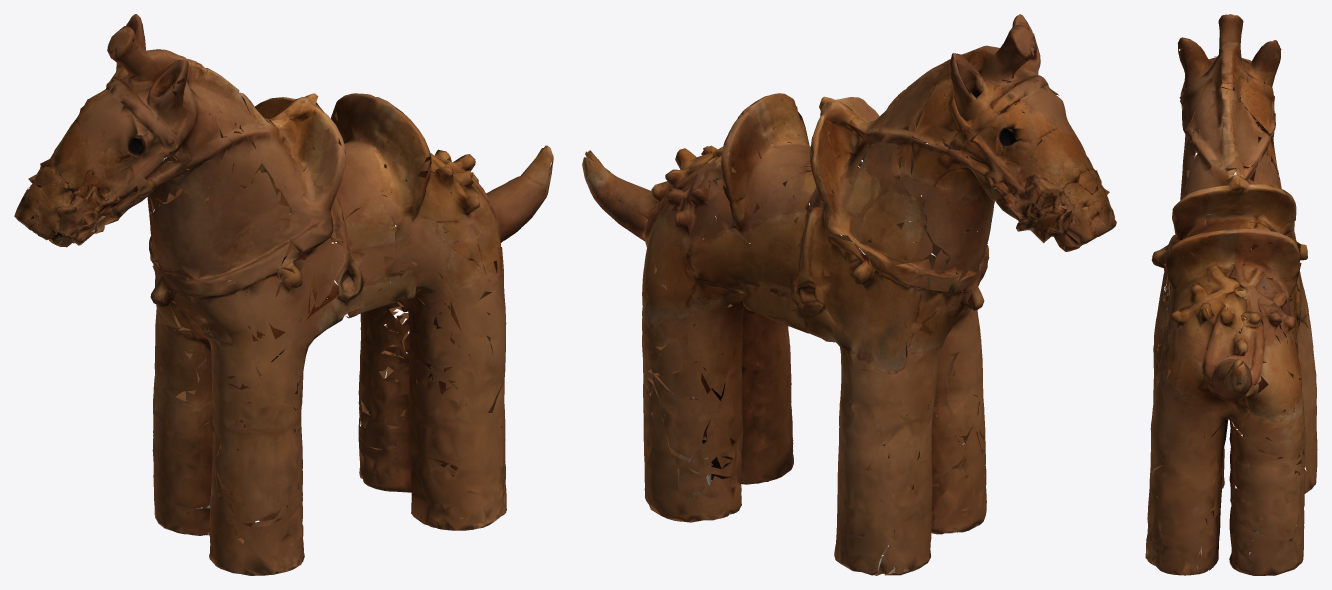
File: sf-haniwa-horse.glb
3 renders of one model, left to right at view 1: azimuth 30°, elevation 25°; view 2: azimuth 150°, elevation 25°; view 3: azimuth 270°, elevation 25°, orthographic. The views are drawn at different scales.
Visible parts, largest first — view 1: Object_6, Object_8, Object_2, Object_3, Object_5, Object_4, Object_7, Object_9, Object_10, Object_11; view 2: Object_3, Object_7, Object_2, Object_9, Object_8, Object_4, Object_5, Object_6, Object_10, Object_11; view 3: Object_2, Object_3, Object_5, Object_6, Object_4, Object_8, Object_7, Object_10, Object_9, Object_11.
Boxes of the visible parts, x1,y1,x2,y2 form: Object_6: (149, 145, 553, 574); Object_8: (34, 14, 288, 575); Object_2: (204, 93, 551, 354); Object_3: (158, 68, 443, 409); Object_5: (358, 301, 506, 530); Object_4: (168, 227, 469, 523); Object_7: (149, 211, 298, 535); Object_9: (14, 96, 487, 325); Object_10: (26, 27, 497, 572); Object_11: (186, 148, 553, 518); Object_3: (642, 63, 969, 396); Object_7: (834, 224, 985, 575); Object_2: (605, 93, 864, 371); Object_9: (653, 102, 1116, 401); Object_8: (844, 14, 1096, 575); Object_4: (643, 184, 965, 500); Object_5: (644, 312, 793, 522); Object_6: (585, 134, 994, 486); Object_10: (643, 27, 1113, 571); Object_11: (582, 151, 987, 514); Object_2: (1155, 214, 1305, 459); Object_3: (1153, 80, 1304, 444); Object_5: (1145, 419, 1304, 575); Object_6: (1150, 152, 1258, 472); Object_4: (1153, 263, 1309, 540); Object_8: (1177, 14, 1281, 488); Object_7: (1163, 233, 1317, 493); Object_10: (1147, 14, 1317, 570); Object_9: (1165, 82, 1305, 455); Object_11: (1152, 242, 1298, 574).
Bounding box in the file's own units: 0.7578 × 0.7291 × 0.2652.
1 material, 1 textured.
